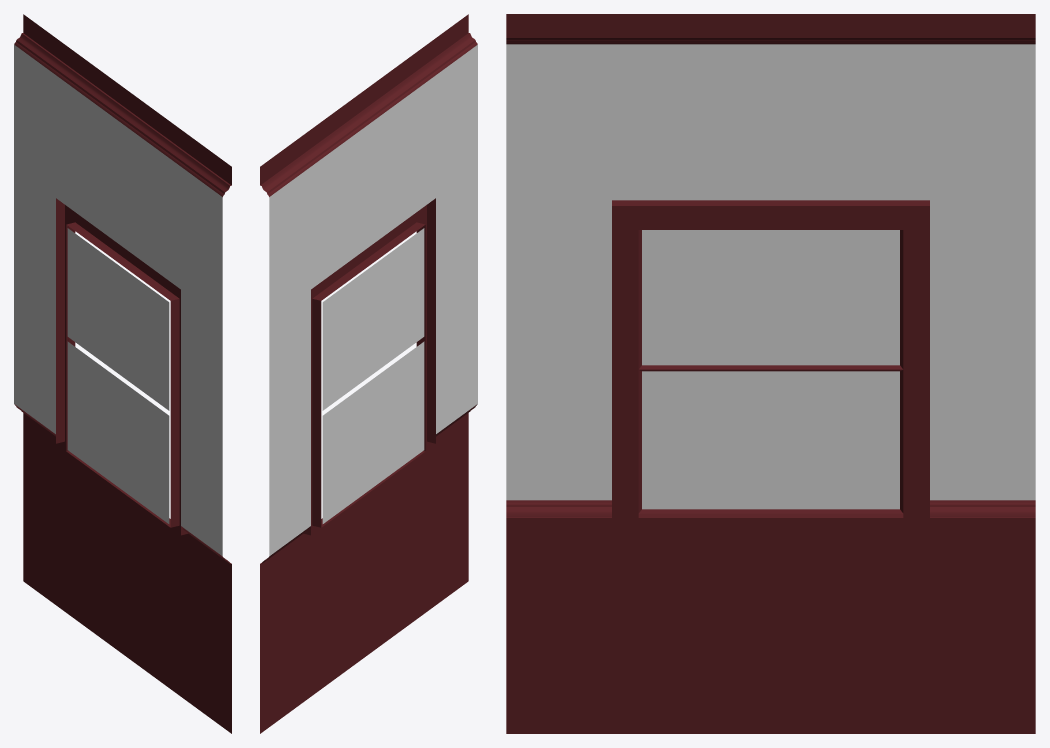
The model's file is sm_window_200_01.fbx.
3 renders of one model, left to right at view 1: azimuth 30°, elevation 25°; view 2: azimuth 150°, elevation 25°; view 3: azimuth 270°, elevation 25°, orthographic. The views are drawn at different scales.
Parts seen in each view (by area): view 1: sm_window_200_01; view 2: sm_window_200_01; view 3: sm_window_200_01.
Part boxes in pixels (x1,y1,x2,y2): sm_window_200_01: (14, 14, 231, 733); sm_window_200_01: (260, 14, 477, 733); sm_window_200_01: (506, 14, 1035, 733).
Size of the model in its own units: 5 by 300 by 200.
